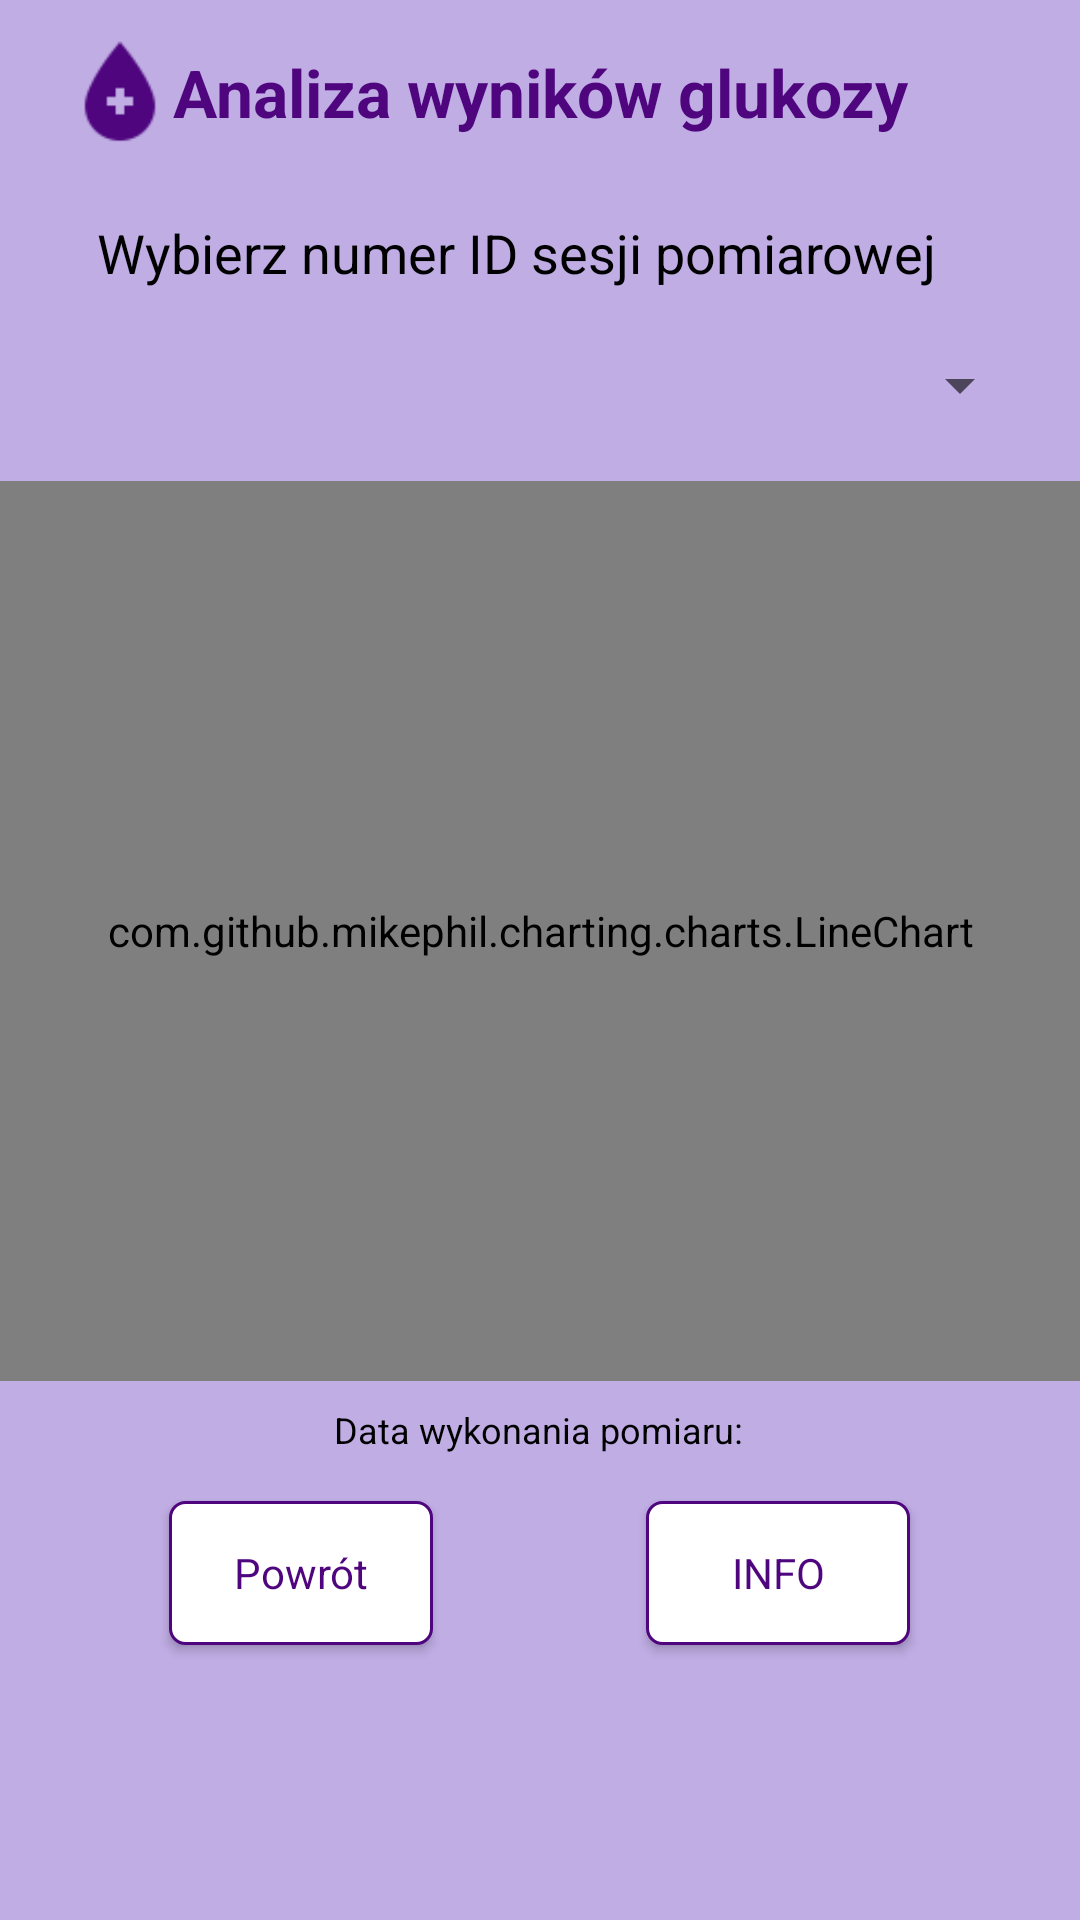

Named icons in this screenshot (1080*1920) and their centers, (x=x, y=y):
glucose: (x=120, y=91)
